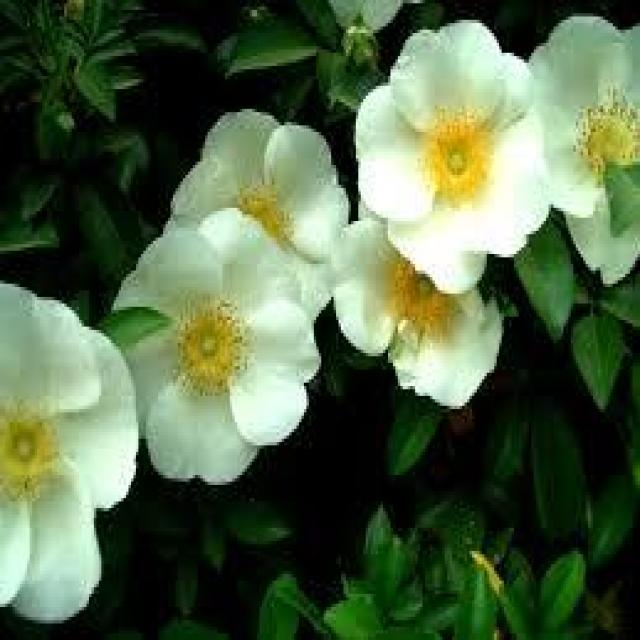organic waste: (110, 219, 322, 490), (4, 277, 140, 624), (163, 107, 351, 338), (356, 20, 544, 237), (332, 210, 506, 414), (532, 15, 636, 275)
